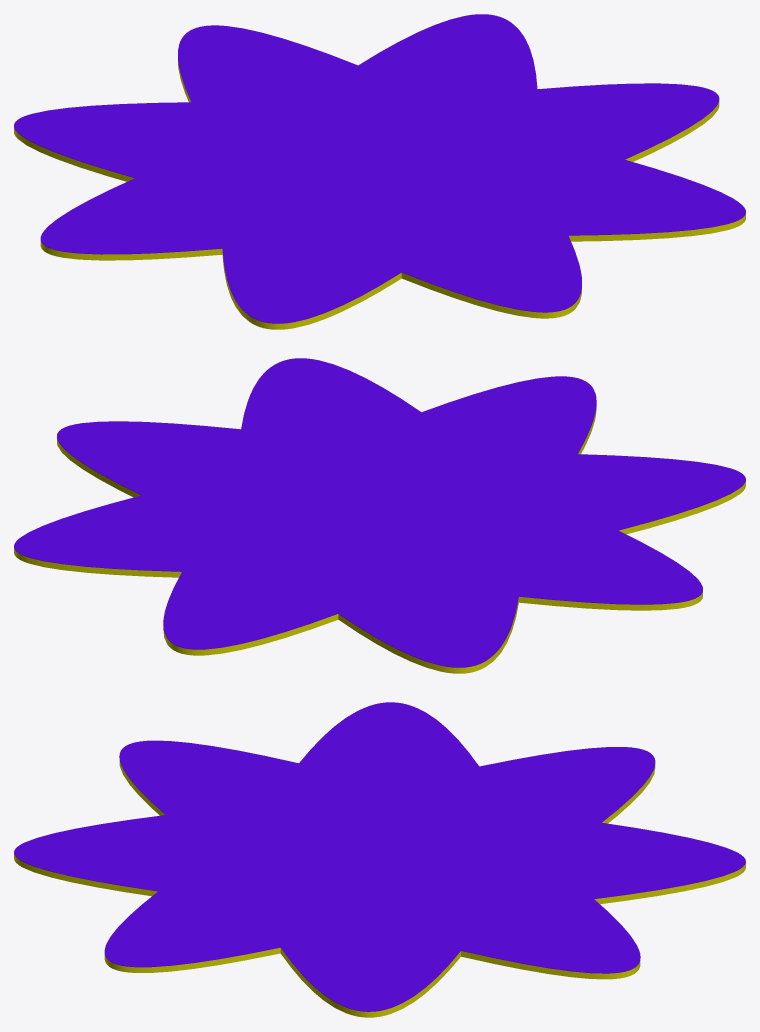
Rendered from portalNew.glb.
The picture shows the model from 3 angles, top to bottom: view 1: azimuth 30°, elevation 25°; view 2: azimuth 150°, elevation 25°; view 3: azimuth 270°, elevation 25°; orthographic projection. The views are drawn at different scales.
Visible parts, largest first — view 1: Body2, Body3; view 2: Body2, Body3; view 3: Body2, Body3.
Part boxes in pixels (x1,y1,x2,y2): Body2: (14, 14, 745, 323); Body3: (14, 61, 745, 329); Body2: (14, 358, 745, 667); Body3: (14, 406, 745, 673); Body2: (14, 702, 745, 1011); Body3: (14, 761, 745, 1017).
Size of the model in its own units: 2.28 by 0.021 by 2.28.
